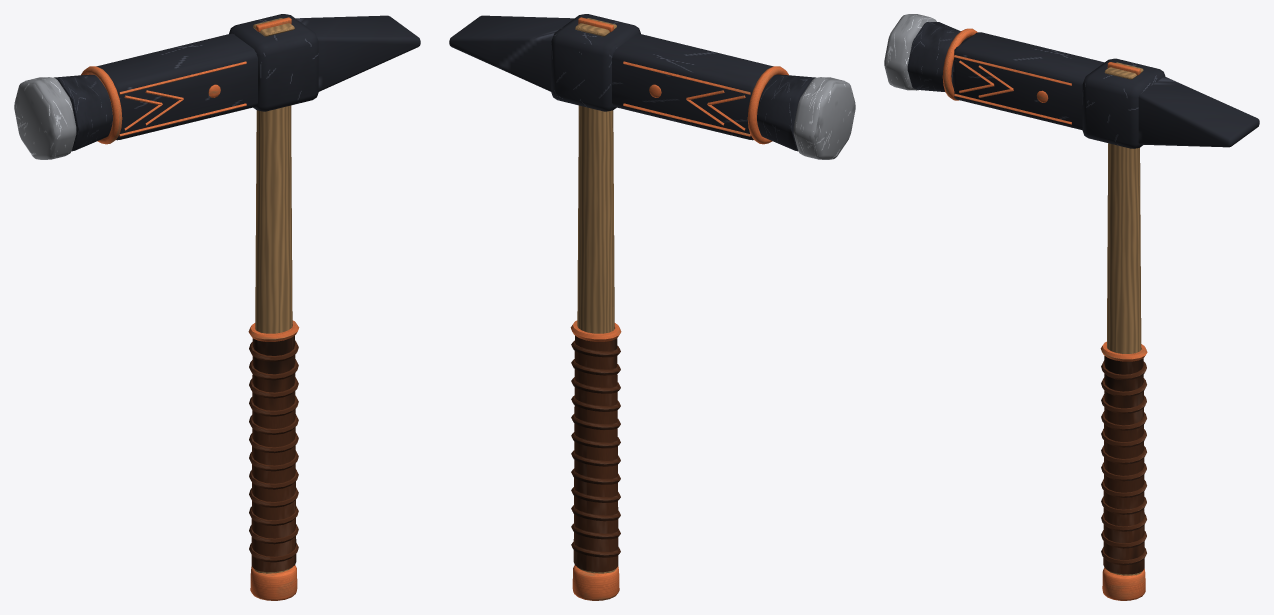
Rendered from hammer.glb.
The picture shows the model from 3 angles, left to right: view 1: azimuth 30°, elevation 25°; view 2: azimuth 150°, elevation 25°; view 3: azimuth 330°, elevation 25°; orthographic projection. The views are drawn at different scales.
Parts seen in each view (by area): view 1: HammerMesh; view 2: HammerMesh; view 3: HammerMesh.
Boxes of the visible parts, x1,y1,x2,y2 form: HammerMesh: (14,14,420,600); HammerMesh: (449,14,855,600); HammerMesh: (884,14,1259,600).
Size of the model in its own units: 0.3535 by 0.521 by 0.0704.
5 materials, 5 textured.
